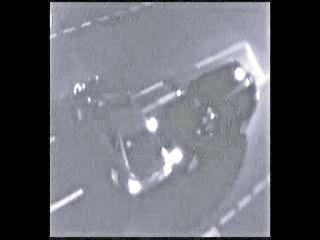Car: (70, 78, 186, 191), (165, 72, 255, 156)
Minor Accident: (68, 74, 257, 190)
